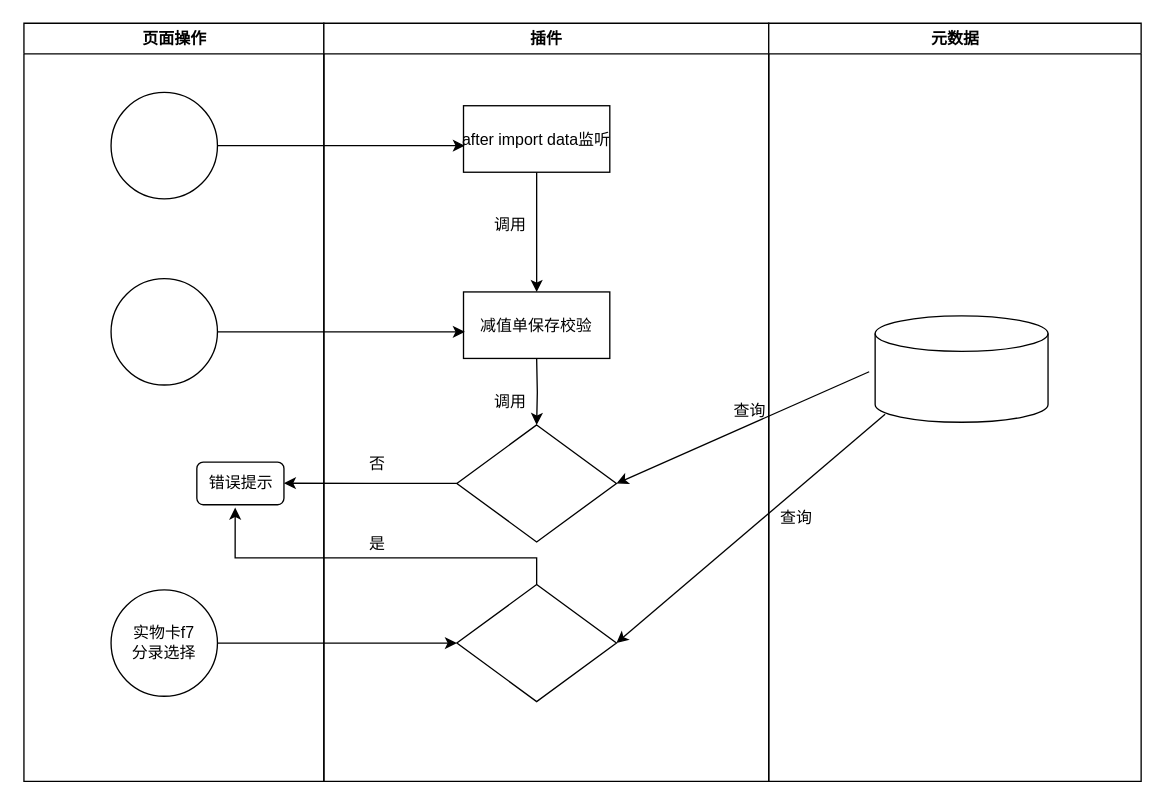
This 1164x805 diagram has some shape labels left out. Here are the shapes that lost their labels. From the top down, the centre of each, then its label:
At pixel 163 145: "引入".
At pixel 163 331: "保存".
At pixel 536 483: "校验减值单内 资产分录在 同一期的唯一性".
At pixel 536 642: "校验选中资产 是否已存在于 当期 减值单".
